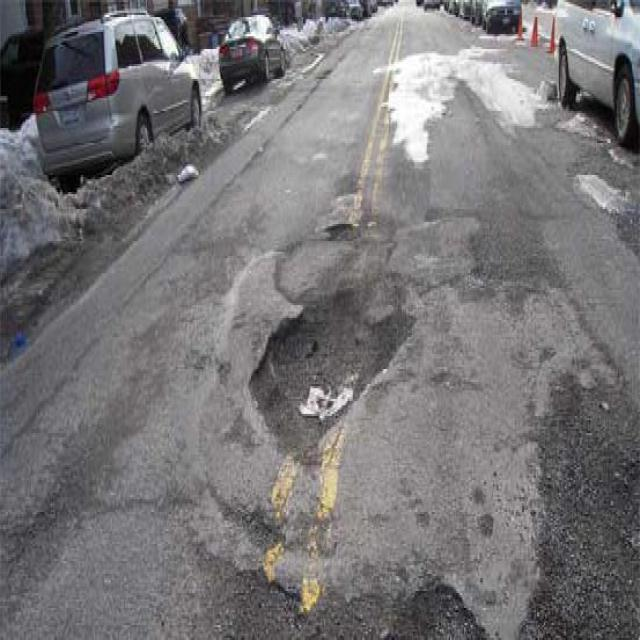buraco: (246, 274, 414, 468), (249, 284, 412, 460), (324, 220, 360, 244), (330, 220, 357, 243)
